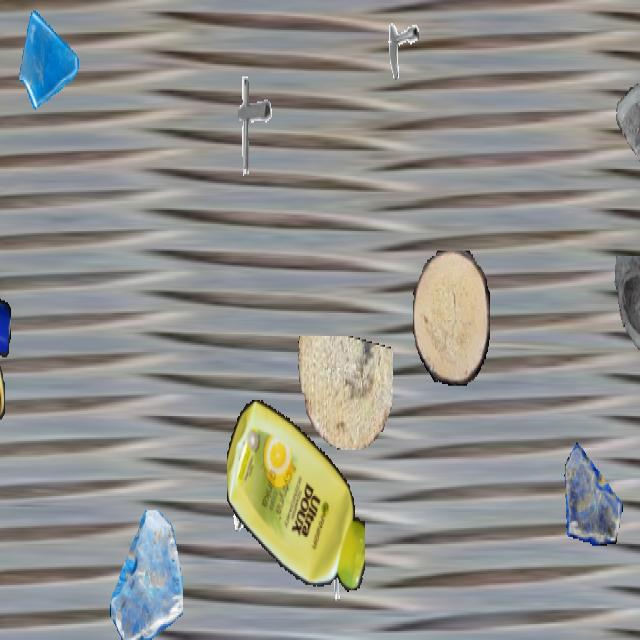glass: (110, 510, 182, 638), (17, 1, 81, 116), (564, 441, 622, 544), (606, 57, 640, 203), (611, 256, 640, 366)
metal: (220, 71, 280, 178), (227, 453, 273, 535), (319, 535, 363, 613), (377, 4, 419, 78)
plastic: (227, 393, 365, 599), (0, 237, 10, 407), (0, 288, 4, 501)
wood: (295, 336, 393, 450), (413, 250, 489, 386)
